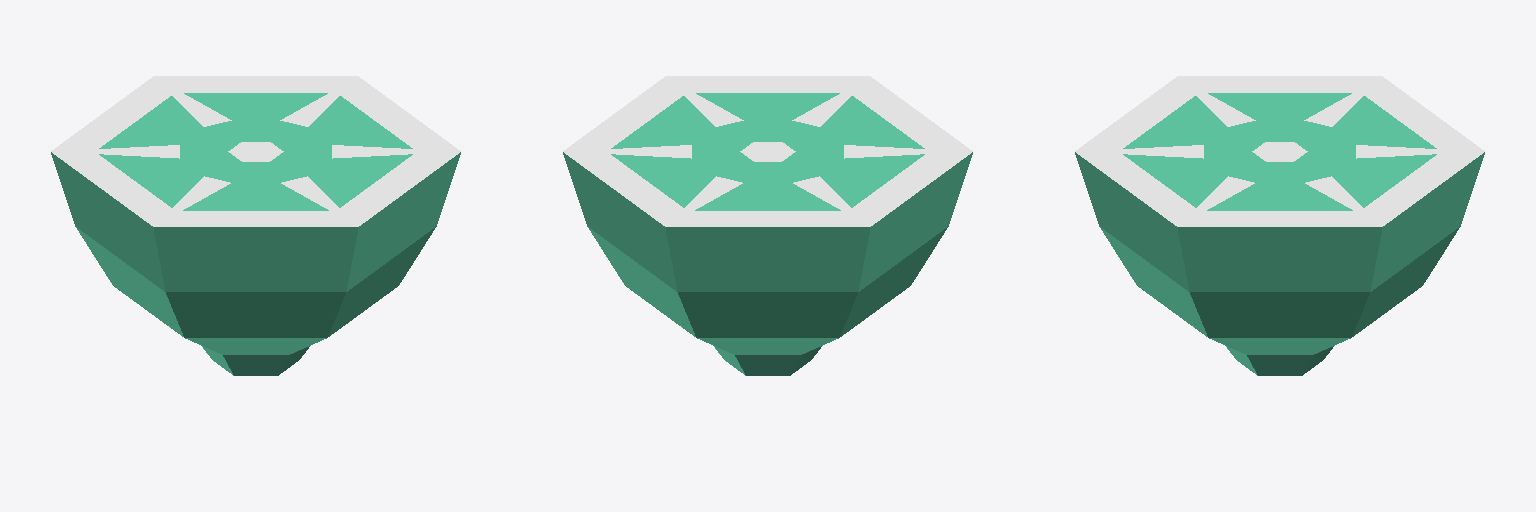
The model's file is limeHalf.obj.
3 renders of one model, left to right at view 1: azimuth 30°, elevation 25°; view 2: azimuth 150°, elevation 25°; view 3: azimuth 270°, elevation 25°, orthographic.
Parts seen in each view (by area): view 1: limeHalf; view 2: limeHalf; view 3: limeHalf.
Boxes of the visible parts, box(x1,y1,x2,y2) form: limeHalf: box(51, 76, 460, 375); limeHalf: box(563, 76, 972, 375); limeHalf: box(1075, 76, 1484, 375).
Size of the model in its own units: 0.1732 by 0.112 by 0.2.